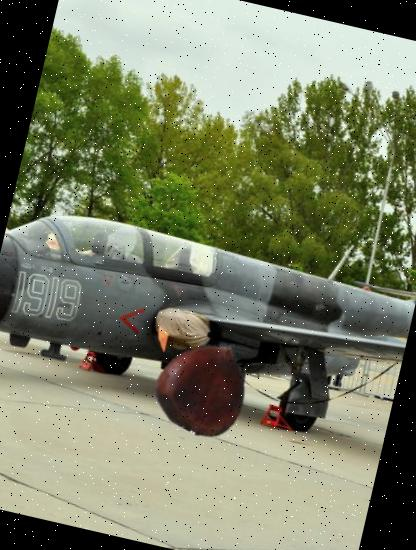Chestnut: (148, 330, 260, 442)
